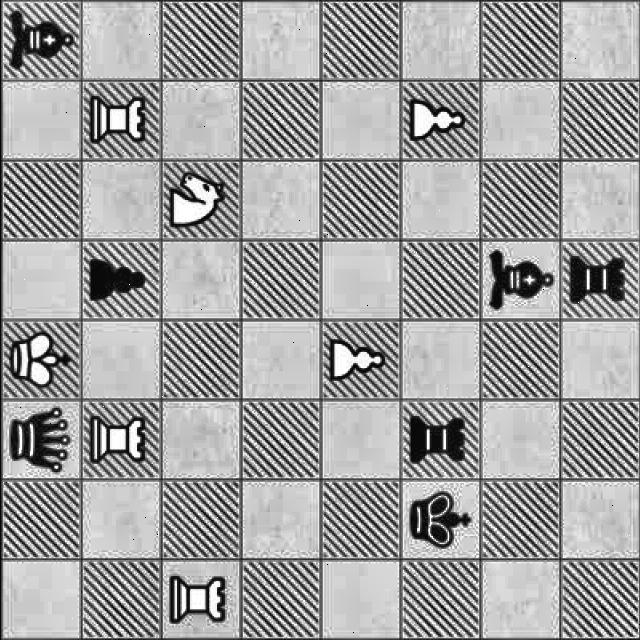black bishop: (479, 246, 554, 314), (5, 6, 78, 74)
black king: (401, 491, 478, 549)
black pawn: (83, 250, 158, 308)
black queen: (0, 407, 76, 473)
black rook: (558, 248, 638, 310), (404, 412, 474, 470)
white king: (2, 328, 76, 389)
white pawn: (322, 328, 393, 389), (398, 94, 471, 144)
white rook: (82, 86, 157, 152), (165, 570, 233, 628), (84, 412, 152, 468)
whiteknight: (162, 168, 230, 230)
